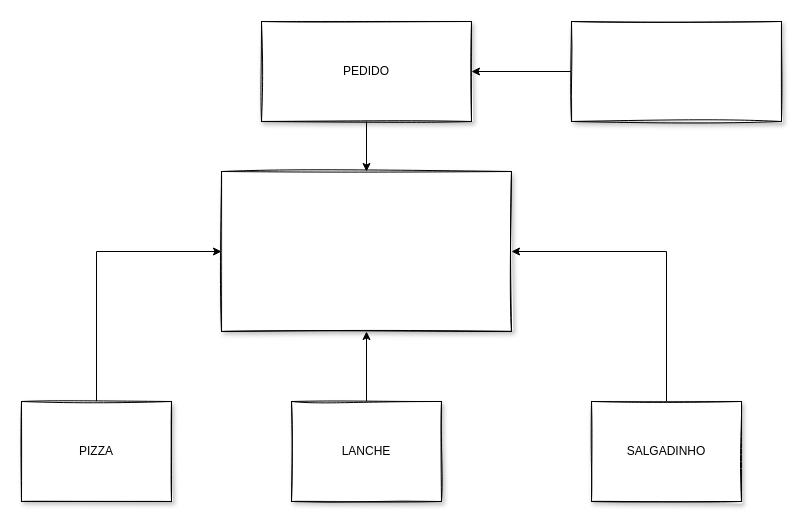
Some shapes in this 805 by 526 pixel diagram are drawn without their labels. The shapes that lost their labels are listed below. From the top down, each one's centre as x and y in pixels, then its label:
At pixel 677 72: "NOTA FISCAL".
At pixel 367 252: "ITEM (preço, validade e peso)".
